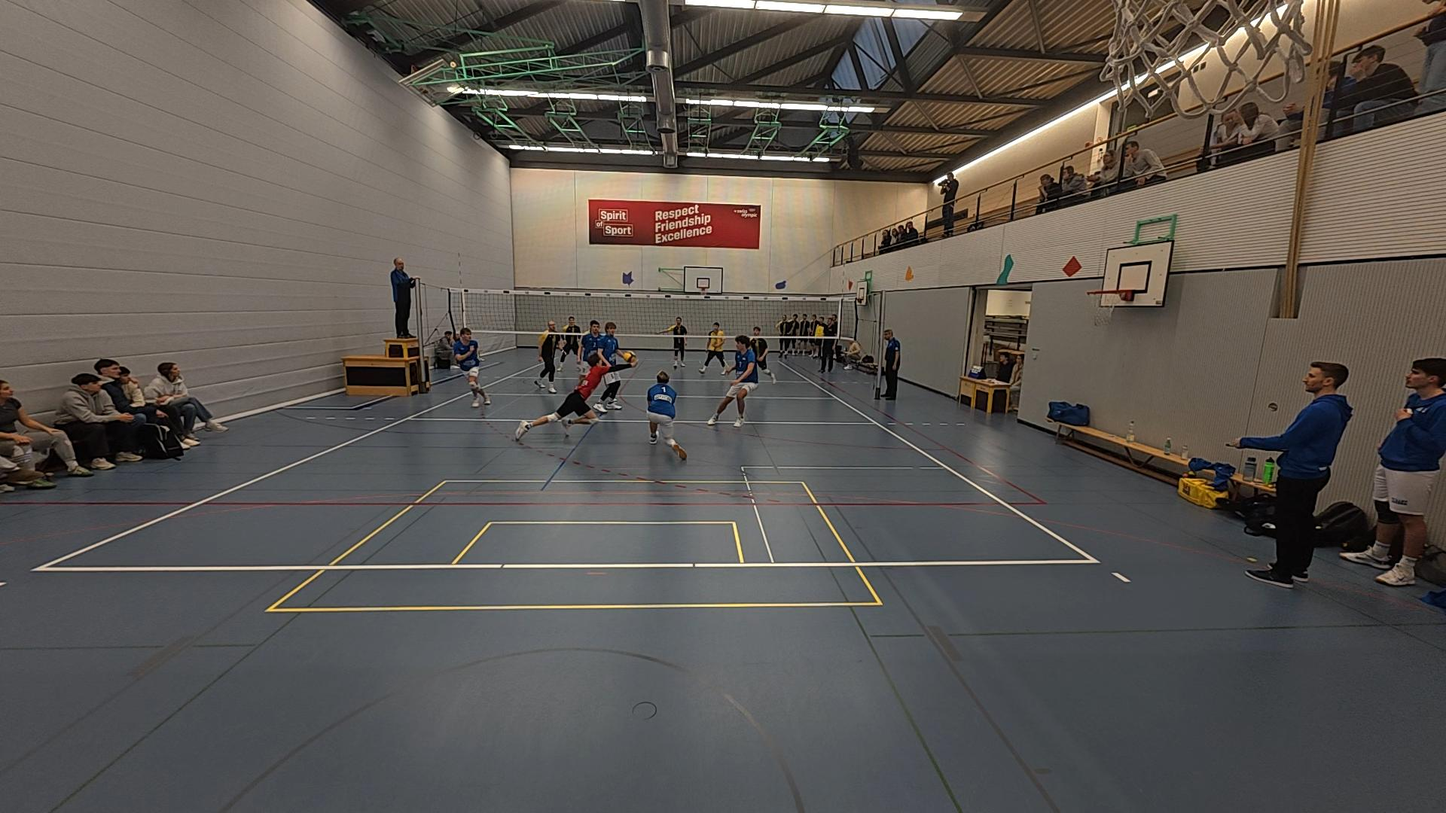Dig: (516, 347, 637, 435)
Player: (706, 340, 758, 428), (645, 370, 688, 462), (452, 326, 491, 408), (595, 317, 626, 413), (535, 319, 563, 394), (575, 318, 604, 390), (556, 313, 588, 373), (654, 315, 689, 367), (700, 321, 728, 374), (745, 327, 770, 379)
ball: (901, 265, 917, 280), (619, 349, 634, 364)
